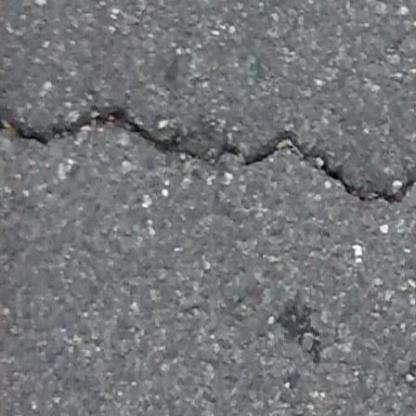Cracks: (0, 55, 416, 251)
